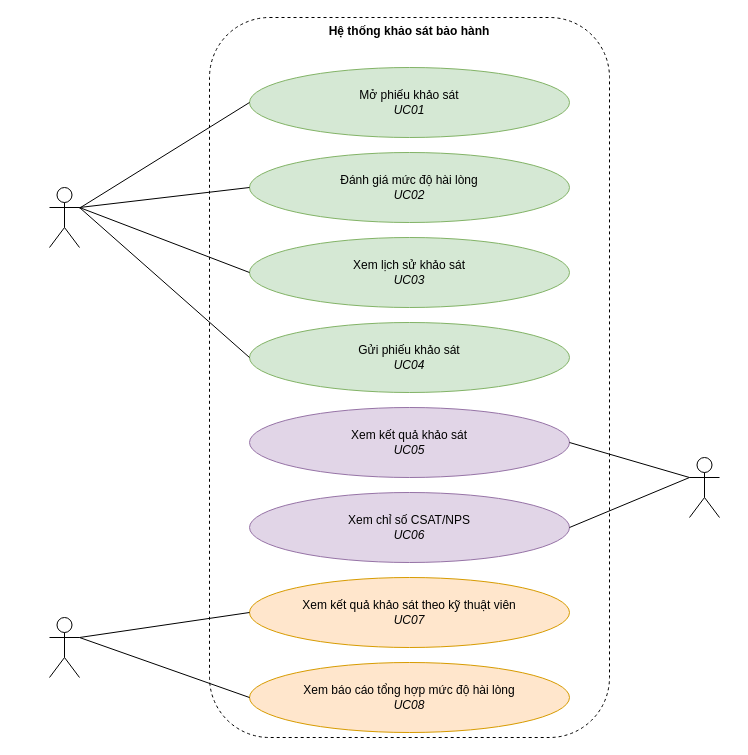
Image size: 748x755. Some labels were removed from this diagram. The shapes that lost their labels are listed below. From the top down, each one's centre as x and y in pixels, then its label:
At point 64,217: "Khách hàng".
At point 704,487: "Marketing".
At point 64,647: "Quản lý trung tâm".
